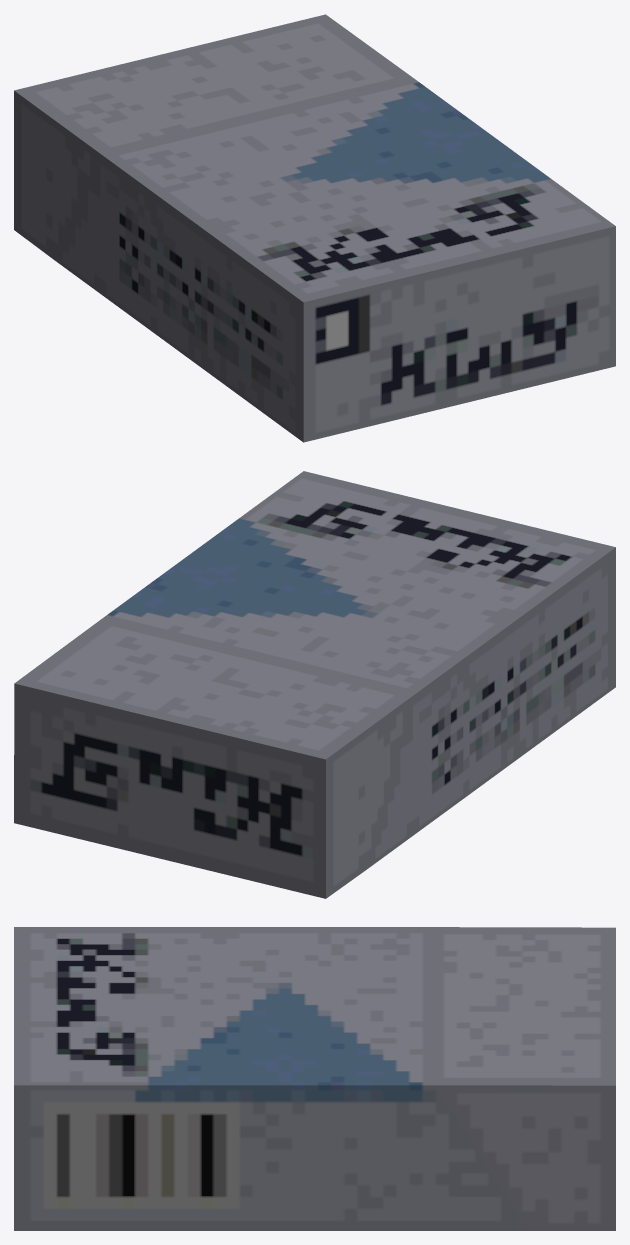
Rendered from CigarettesPackForAnimation.fbx.
The picture shows the model from 3 angles, top to bottom: view 1: azimuth 30°, elevation 25°; view 2: azimuth 150°, elevation 25°; view 3: azimuth 270°, elevation 25°; orthographic projection. The views are drawn at different scales.
Parts seen in each view (by area): view 1: CigarettesPack_animation, CigarettesPackCover_animation; view 2: CigarettesPack_animation, CigarettesPackCover_animation; view 3: CigarettesPack_animation, CigarettesPackCover_animation.
Part boxes in pixels (box(x1,y1,x2,y2)): CigarettesPack_animation: box(55, 77, 615, 442); CigarettesPackCover_animation: box(14, 14, 412, 260); CigarettesPack_animation: box(101, 471, 615, 868); CigarettesPackCover_animation: box(14, 619, 412, 898); CigarettesPack_animation: box(14, 927, 528, 1230); CigarettesPackCover_animation: box(435, 927, 615, 1230).
Size of the model in its own units: 5.6 by 2.4 by 9.
Materials: 1 (1 with a texture image).
